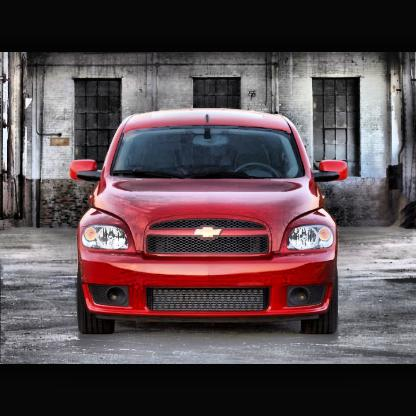Chevrolet HHR SS 2010: (70, 107, 351, 339)
